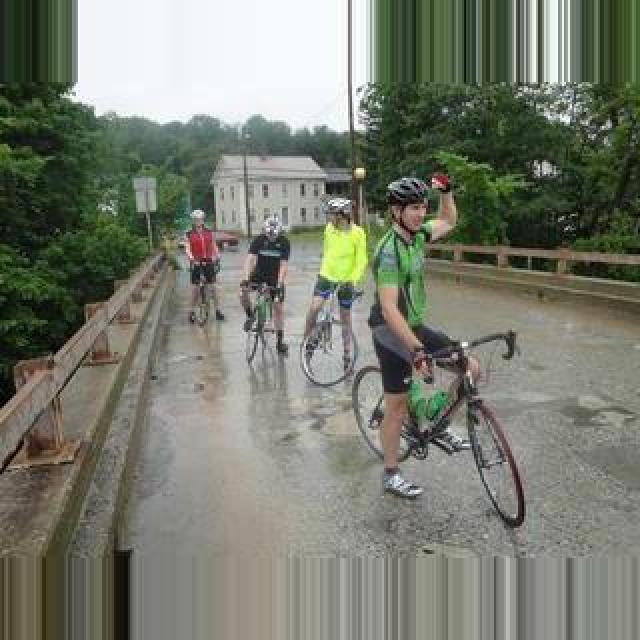MC-Bike: (364, 174, 470, 496), (304, 198, 370, 380), (242, 216, 290, 338), (184, 210, 232, 322)
Person: (354, 320, 530, 526), (300, 282, 364, 388), (240, 280, 286, 364), (190, 266, 218, 326)
